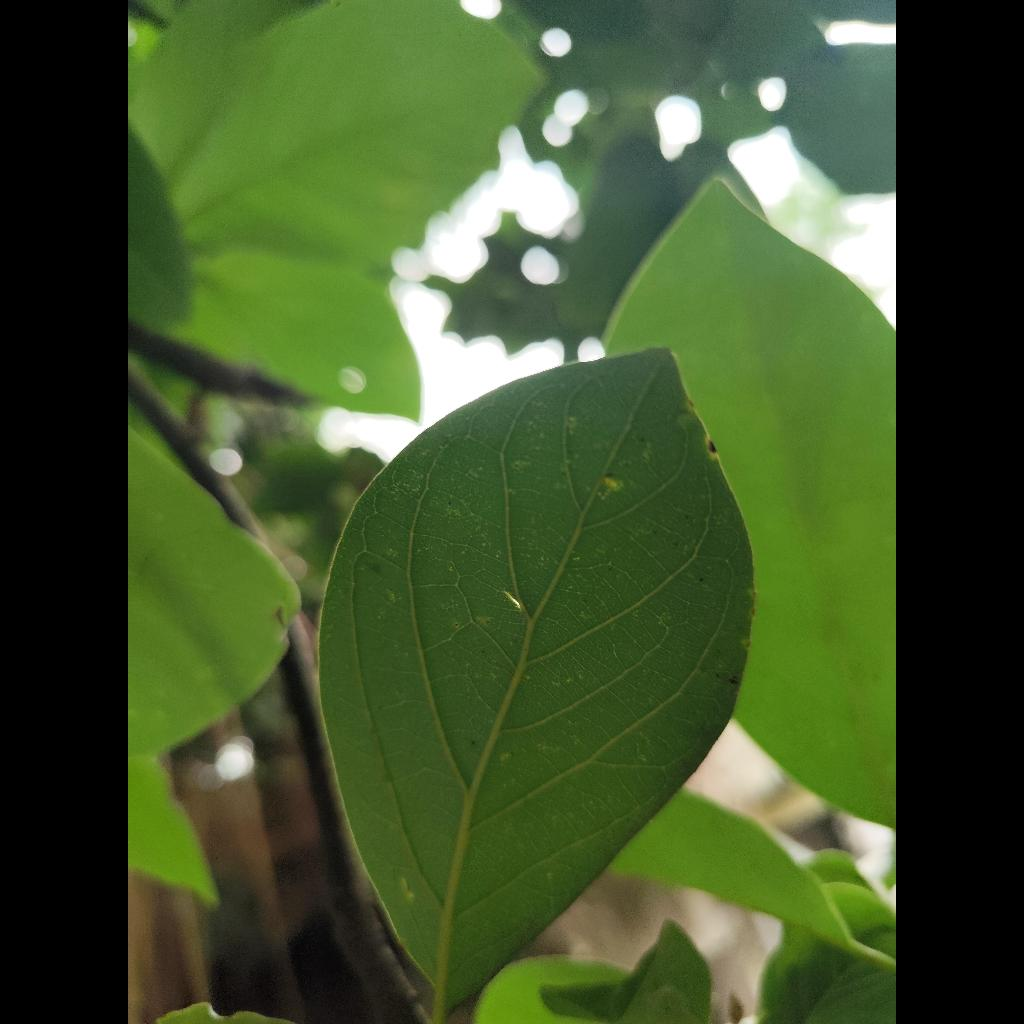Healthy: (320, 350, 753, 1024)
